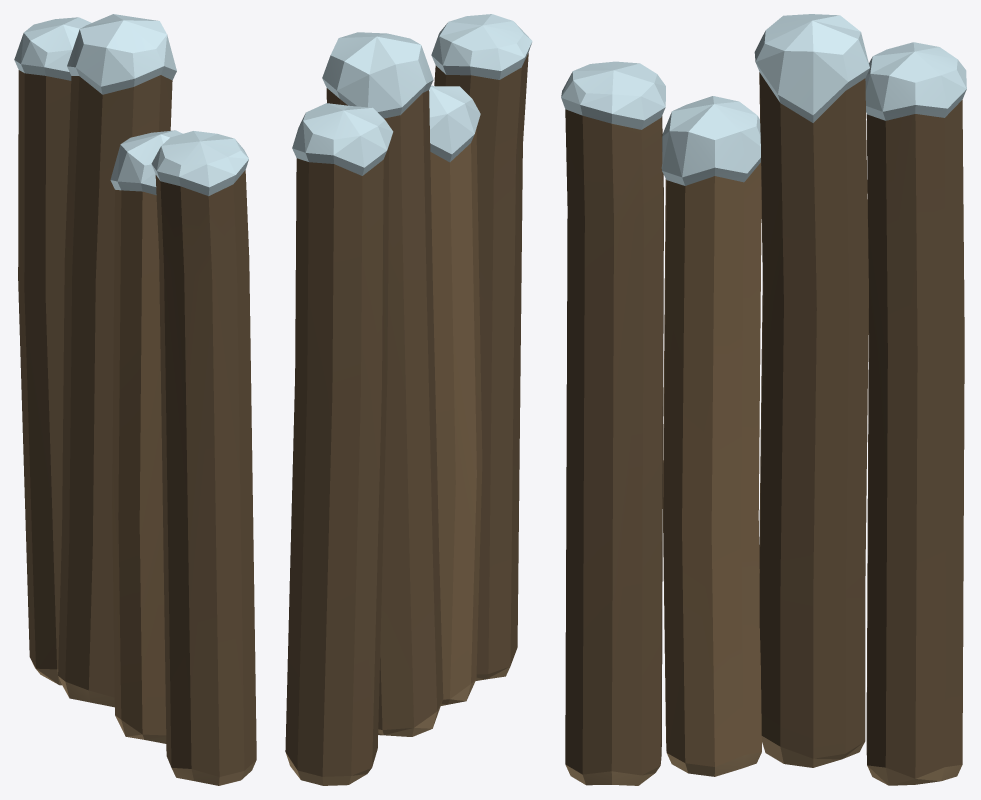
File: Cerca_Grande_Madera02.glb
The picture shows the model from 3 angles, left to right: view 1: azimuth 30°, elevation 25°; view 2: azimuth 150°, elevation 25°; view 3: azimuth 270°, elevation 25°; orthographic projection. The views are drawn at different scales.
Parts seen in each view (by area): view 1: SM_Prop_Fence_Wood_Large_02_Snow; view 2: SM_Prop_Fence_Wood_Large_02_Snow; view 3: SM_Prop_Fence_Wood_Large_02_Snow.
Boxes of the visible parts, bbox=[...] form: SM_Prop_Fence_Wood_Large_02_Snow: bbox=[14, 14, 256, 785]; SM_Prop_Fence_Wood_Large_02_Snow: bbox=[285, 14, 532, 785]; SM_Prop_Fence_Wood_Large_02_Snow: bbox=[561, 14, 966, 785].
Bounding box in the file's own units: 0.5739 × 3.6 × 1.75.
1 material, 1 textured.
